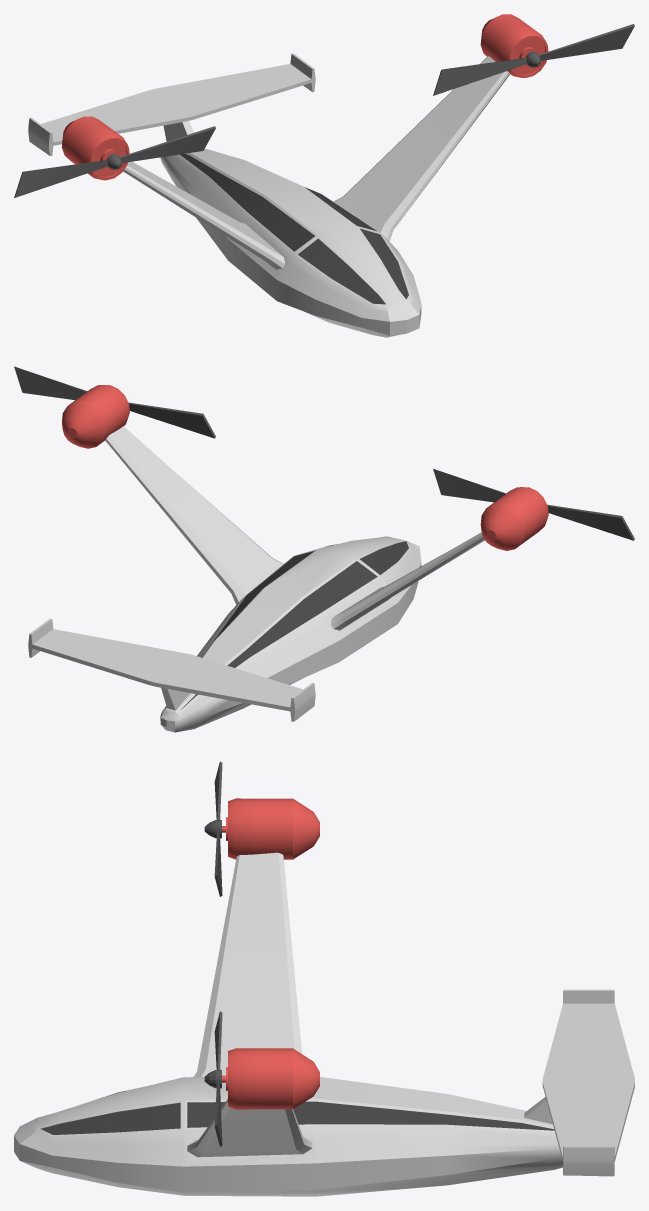
File: ship_12.fbx
3 renders of one model, top to bottom at view 1: azimuth 30°, elevation 25°; view 2: azimuth 150°, elevation 25°; view 3: azimuth 270°, elevation 25°, orthographic. The views are drawn at different scales.
Visible parts, largest first — view 1: Body, Motor, Fan_1, Fan_2; view 2: Body, Motor, Fan_2, Fan_1; view 3: Body, Motor, Fan_1, Fan_2.
Boxes of the visible parts, x1=… form: Body: x1=28, y1=53, x2=509, y2=337; Motor: x1=62, y1=14, x2=548, y2=180; Fan_1: x1=433, y1=24, x2=634, y2=95; Fan_2: x1=14, y1=126, x2=215, y2=197; Body: x1=28, y1=426, x2=484, y2=732; Motor: x1=61, y1=385, x2=548, y2=550; Fan_2: x1=433, y1=468, x2=634, y2=540; Fan_1: x1=14, y1=366, x2=215, y2=438; Body: x1=14, y1=852, x2=634, y2=1196; Motor: x1=222, y1=798, x2=319, y2=1109; Fan_1: x1=204, y1=1011, x2=222, y2=1146; Fan_2: x1=204, y1=761, x2=222, y2=896.
Bounding box in the file's own units: 1326 × 433 × 941.
